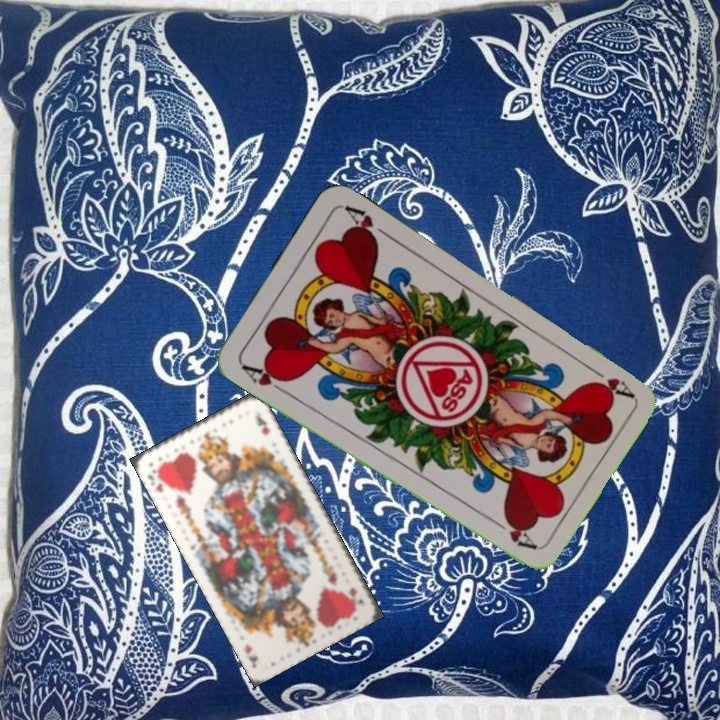HA: (582, 361, 635, 400), (237, 360, 291, 397)
HK: (143, 464, 171, 495), (344, 583, 365, 606)
